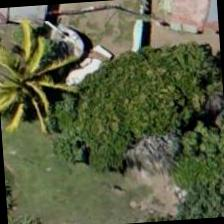Kelapa_Sawit: (0, 29, 69, 125)
